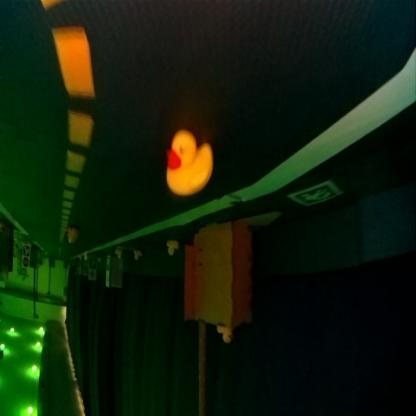Duckie: (166, 136, 212, 195), (217, 326, 231, 344), (66, 228, 76, 244), (166, 242, 178, 254), (134, 252, 140, 260), (115, 250, 121, 258), (83, 254, 88, 261)
QR code: (289, 181, 341, 207), (22, 247, 28, 256)
Stop sign: (22, 258, 28, 268)
